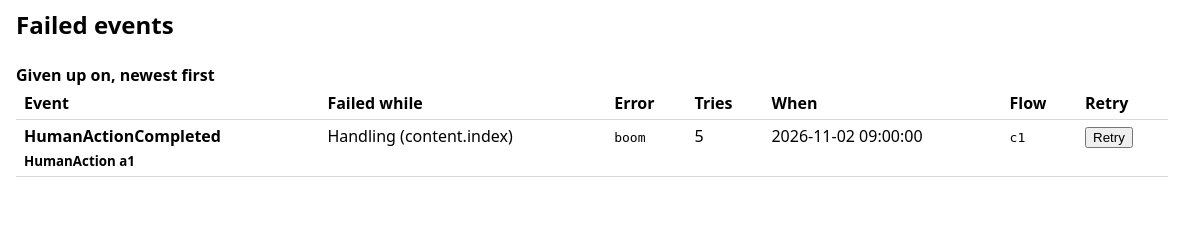
it: FailedEvents › says so when a retry is refused, and reads the list again
Click the button "Retry": {"x": 1109, "y": 137} x1=1085 y1=127 x2=1133 y2=148
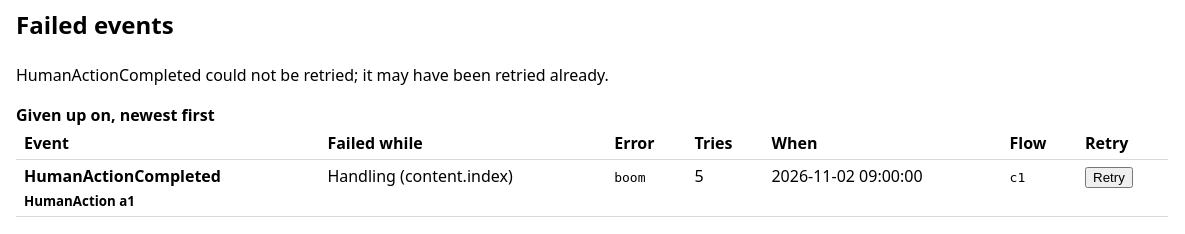
Expected: the message shows "could not be retried", x1=16 y1=64 x2=609 y2=86
